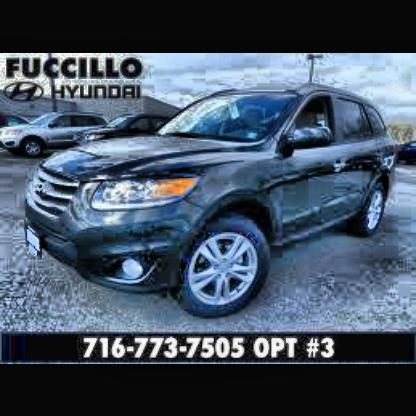Hyundai Santa Fe SUV 2012: (19, 68, 410, 345)
